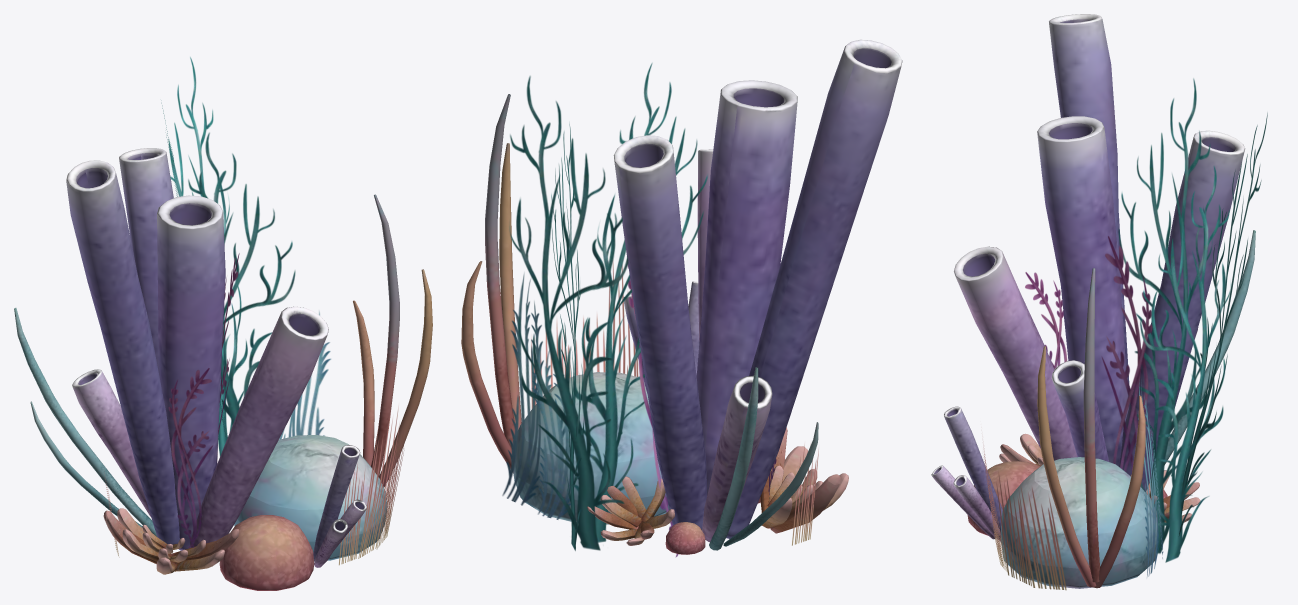
File: runtime-coral-head.glb
3 views of the same model, side by side, from view 1: azimuth 30°, elevation 25°; view 2: azimuth 150°, elevation 25°; view 3: azimuth 270°, elevation 25° (orthographic). The views are drawn at different scales.
Parts seen in each view (by area): view 1: polySurface267, polySurface223; view 2: polySurface267, polySurface223; view 3: polySurface267, polySurface223.
Part boxes in pixels (x1,y1,x2,y2): polySurface267: [14, 148, 432, 590]; polySurface223: [104, 57, 405, 565]; polySurface267: [461, 39, 902, 554]; polySurface223: [502, 63, 818, 557]; polySurface267: [931, 14, 1255, 588]; polySurface223: [983, 78, 1267, 590].
Size of the model in its own units: 3.09 by 4.06 by 2.64.
2 materials, 2 textured.
